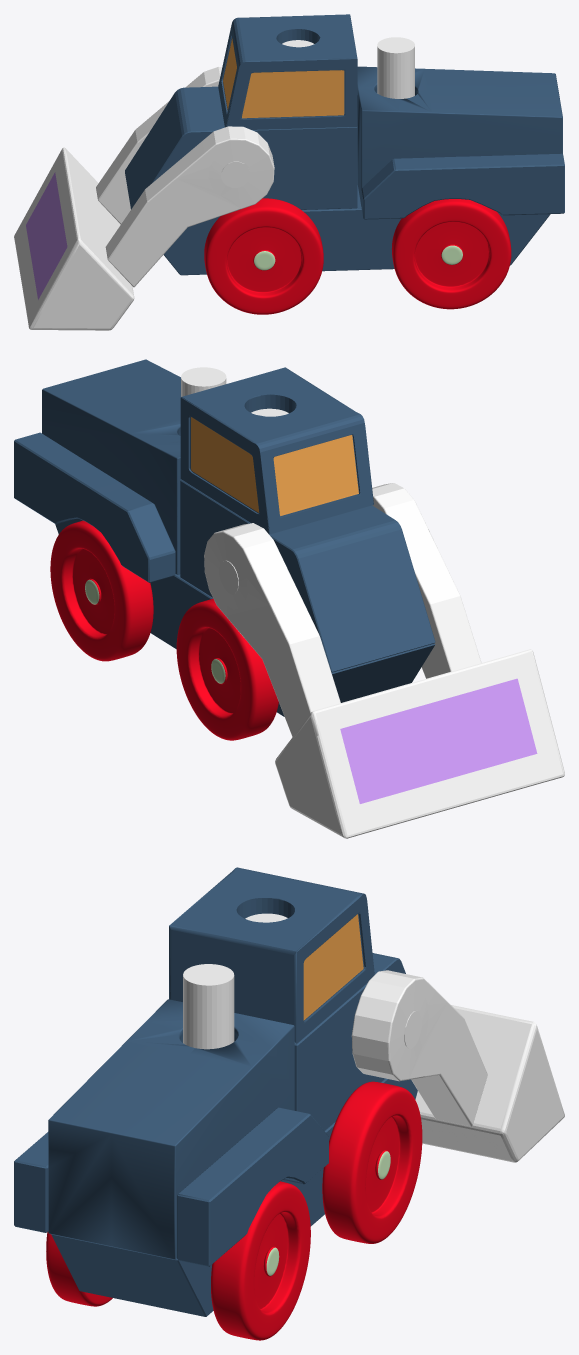
The model's file is ToyObject_076.fbx.
3 views of the same model, one above another, from view 1: azimuth 30°, elevation 25°; view 2: azimuth 150°, elevation 25°; view 3: azimuth 270°, elevation 25° (orthographic). The views are drawn at different scales.
Visible parts, largest first — view 1: object-1.035; view 2: object-1.035; view 3: object-1.035.
Part boxes in pixels (x1,y1,x2,y2): object-1.035: [14, 14, 564, 330]; object-1.035: [14, 359, 564, 838]; object-1.035: [14, 867, 564, 1340].
Size of the model in its own units: 0.2687 by 0.1271 by 0.1932.
